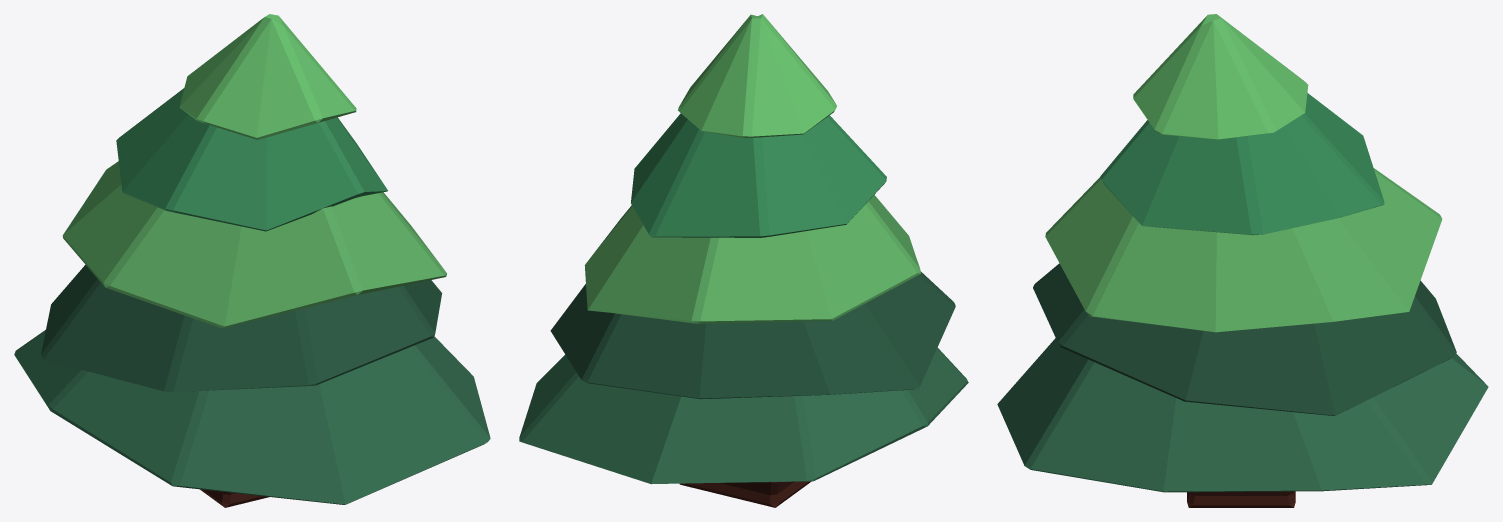
The model's file is STA_Project_Vegetations_Connifer_V2.fbx.
The picture shows the model from 3 angles, left to right: view 1: azimuth 30°, elevation 25°; view 2: azimuth 150°, elevation 25°; view 3: azimuth 270°, elevation 25°; orthographic projection. The views are drawn at different scales.
Parts seen in each view (by area): view 1: Connifer_V2; view 2: Connifer_V2; view 3: Connifer_V2.
Boxes of the visible parts, x1,y1,x2,y2 form: Connifer_V2: (14, 14, 490, 507); Connifer_V2: (519, 14, 968, 507); Connifer_V2: (997, 14, 1488, 507).
Size of the model in its own units: 311 by 370 by 349.
2 materials, 1 textured.
